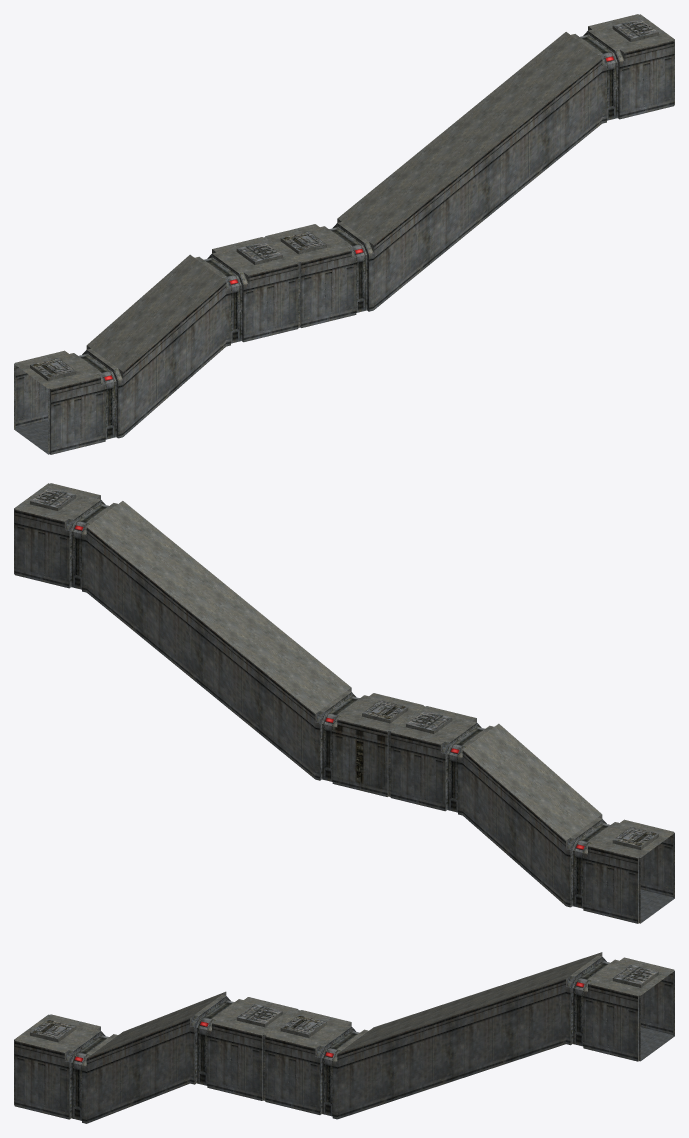
File: poi_all_impl_bunker_abandoned_s01_r23_ramp9_mesh.fbx
3 renders of one model, top to bottom at view 1: azimuth 30°, elevation 25°; view 2: azimuth 150°, elevation 25°; view 3: azimuth 330°, elevation 25°, orthographic.
Visible parts, largest first — view 1: mesh_node; view 2: mesh_node; view 3: mesh_node.
Part boxes in pixels (<box>): mesh_node: <box>14,14,674,454</box>; mesh_node: <box>14,483,674,923</box>; mesh_node: <box>14,952,674,1123</box>.
Size of the model in its own units: 40 by 16.2 by 4.
